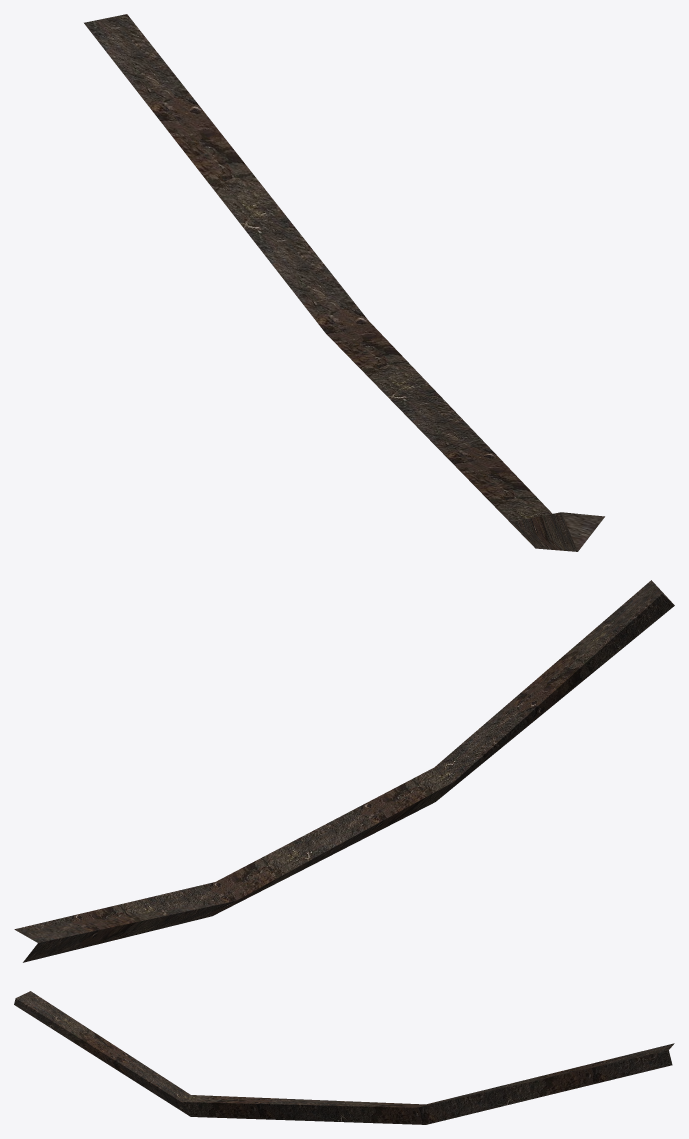
The model's file is prop_rubble_bar_sm_01.glb.
The picture shows the model from 3 angles, top to bottom: view 1: azimuth 30°, elevation 25°; view 2: azimuth 150°, elevation 25°; view 3: azimuth 270°, elevation 25°; orthographic projection. The views are drawn at different scales.
Size of the model in its own units: 11.19 by 9.76 by 62.8.
Materials: 1 (1 with a texture image).
